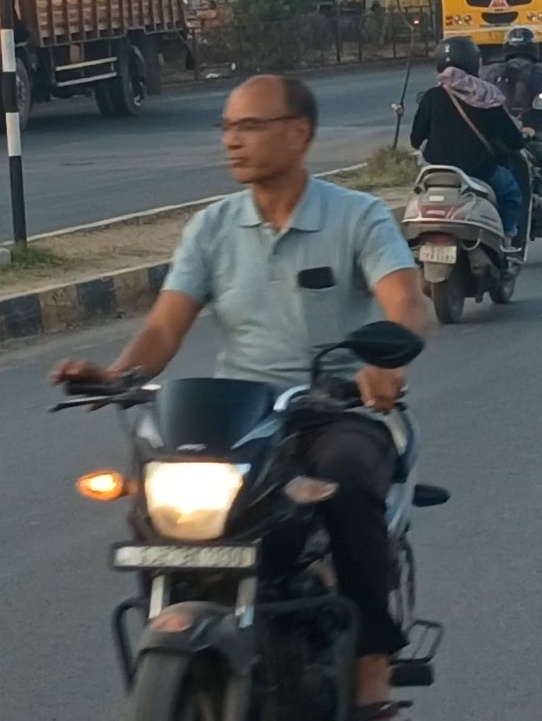BikeWithRider: (43, 69, 452, 721), (401, 32, 531, 328), (496, 24, 542, 242)
Helmet: (432, 33, 481, 81), (502, 26, 538, 62)
NoHelmet: (218, 72, 324, 185)
